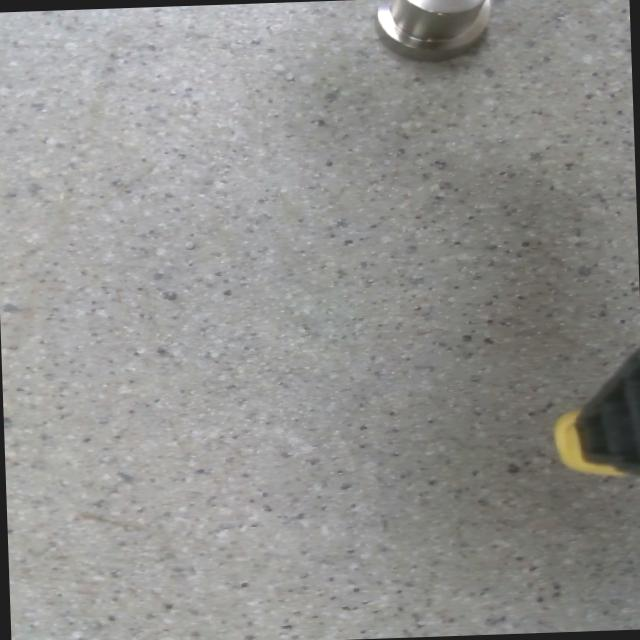sensor: (373, 0, 494, 66)
